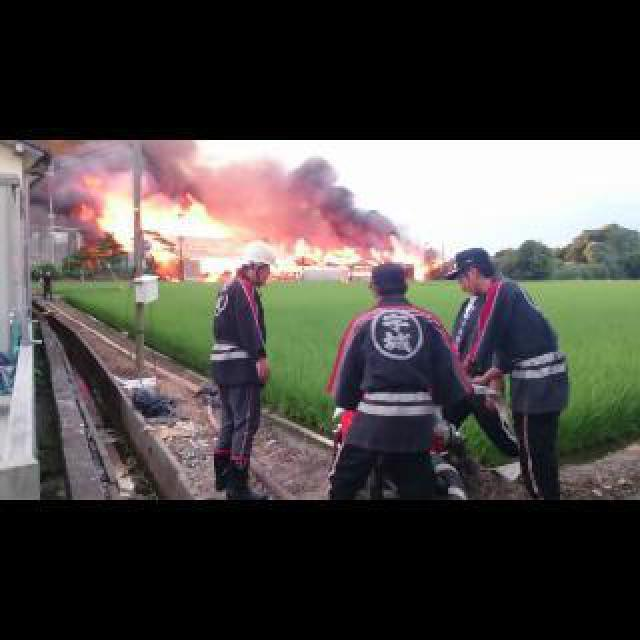fire: (140, 198, 298, 284), (86, 190, 134, 248), (390, 234, 442, 278), (370, 248, 382, 264)
smoke: (278, 160, 398, 244)
